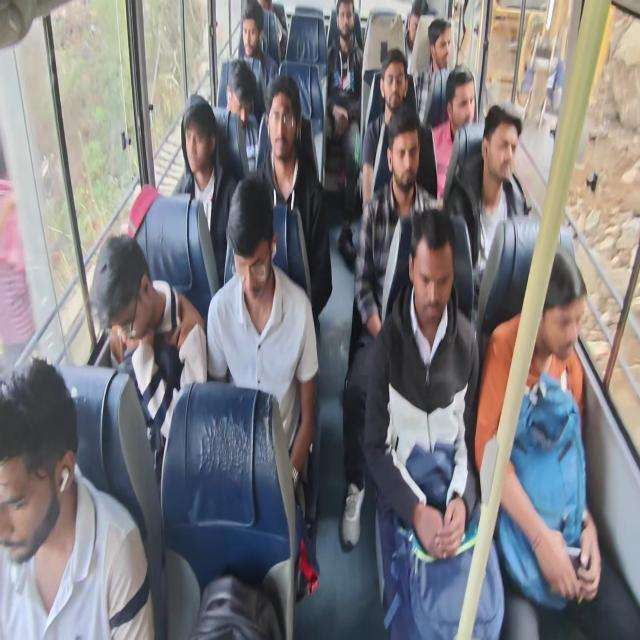person: (362, 206, 505, 638), (474, 246, 602, 636), (340, 107, 439, 549), (0, 356, 155, 638), (206, 175, 319, 509), (89, 232, 207, 483), (255, 75, 332, 336), (442, 103, 530, 309), (172, 100, 238, 288), (325, 0, 363, 266), (361, 48, 418, 208), (417, 65, 476, 204), (216, 1, 278, 123), (414, 19, 452, 126), (224, 59, 258, 173), (256, 0, 288, 66), (404, 0, 428, 76)
